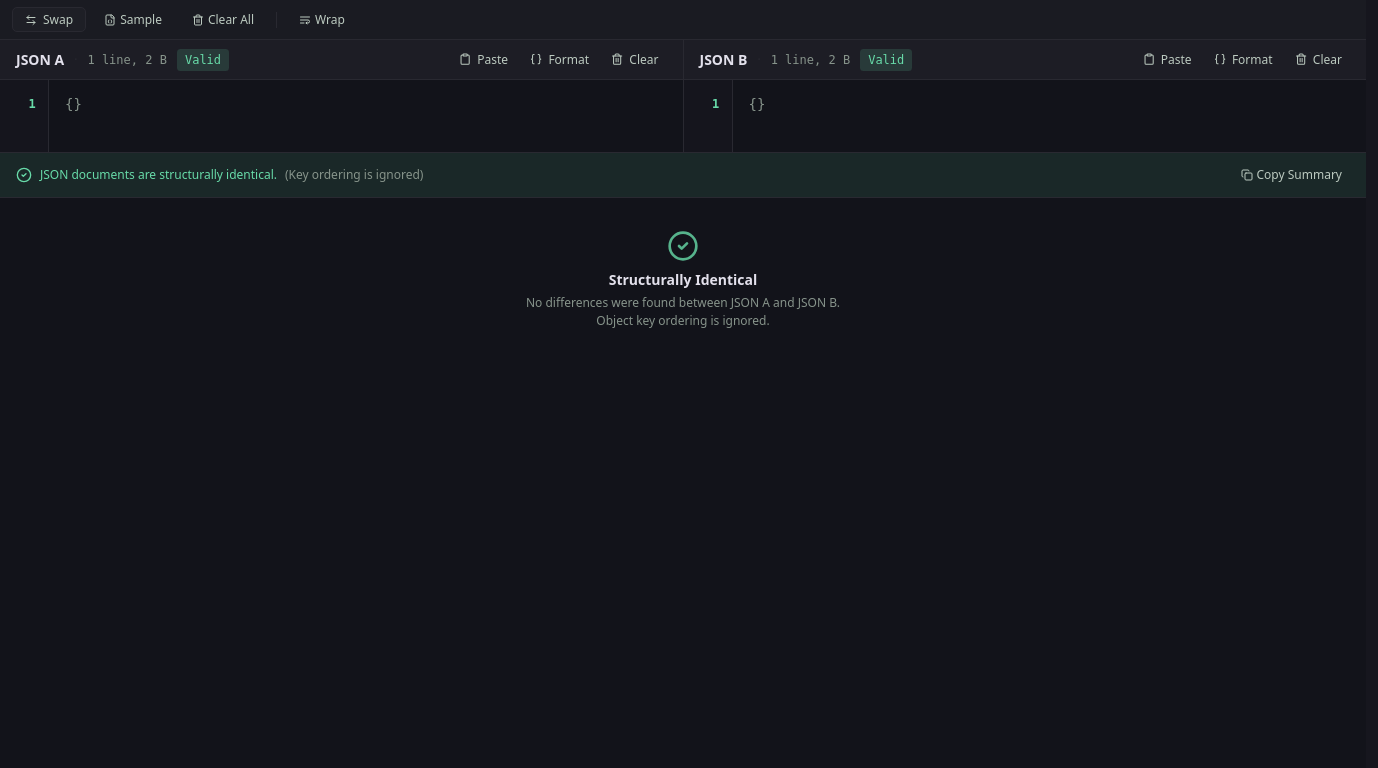
Test case: Compare Feature Component Suite › CompareWorkbench › loads sample comparison when Sample button is clicked
The image size is (1378, 768).
Click the button with aria-label "Load Sample JSON". click: (133, 20)
box: [92,7,174,32]
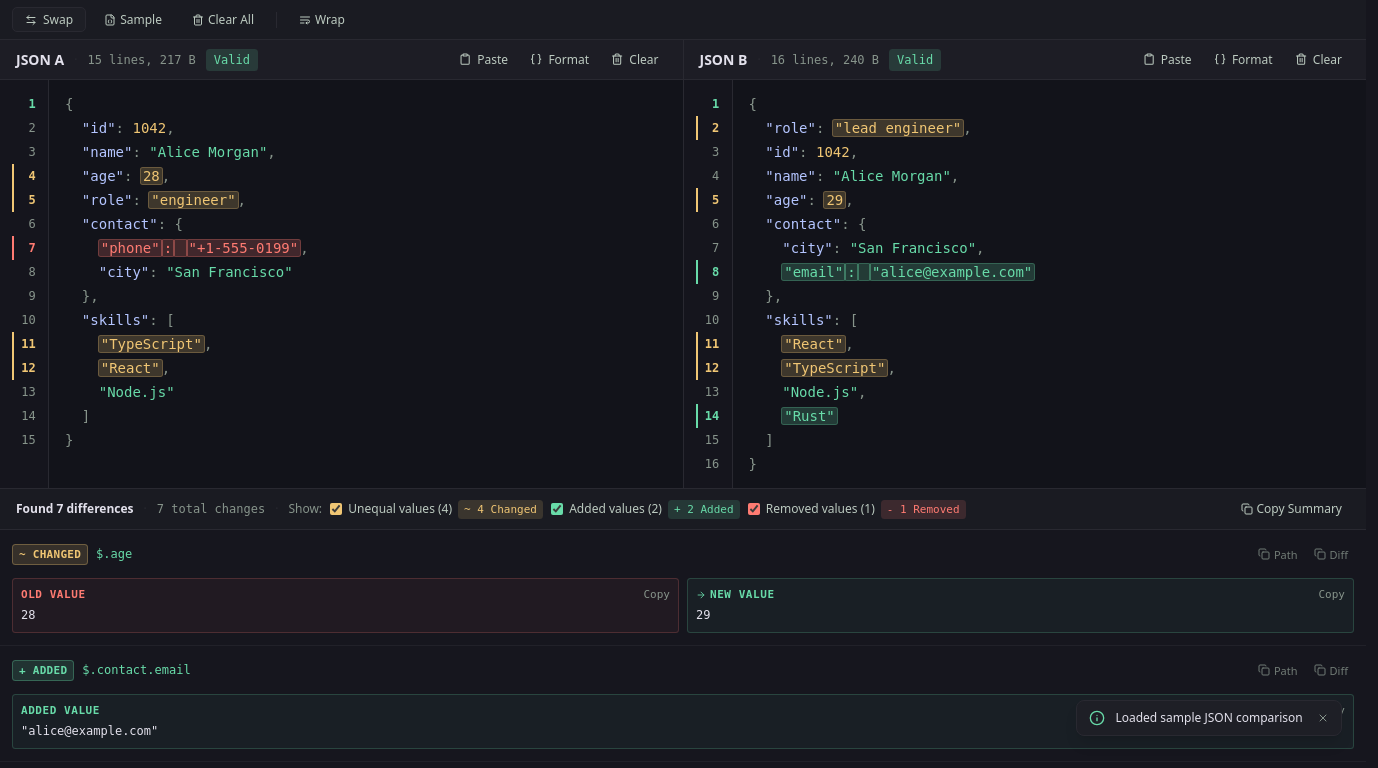
Now the text "\"Alice Morgan\"" is shown, box [149,144,267,160]
